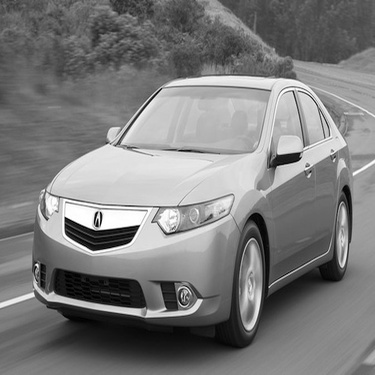car: (25, 68, 359, 351)
